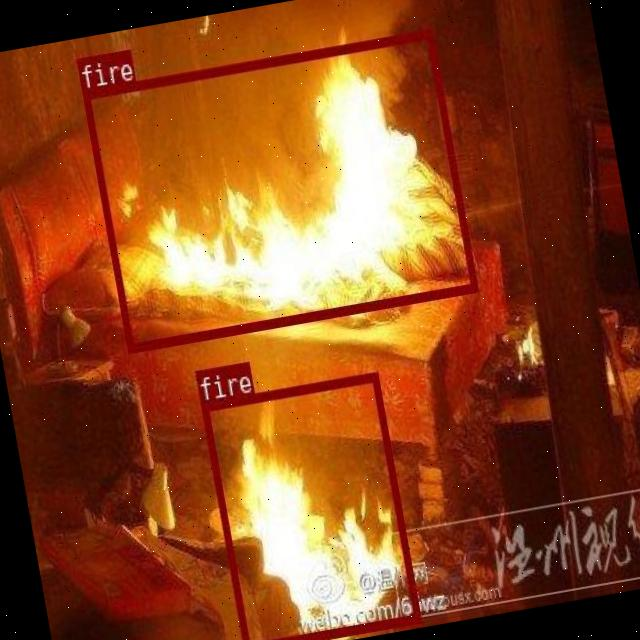fire: (80, 28, 478, 352), (199, 370, 420, 640)
